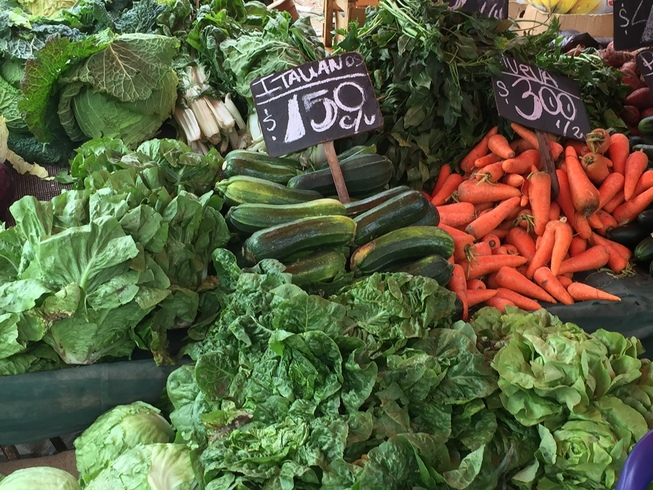precio: (245, 51, 400, 164), (477, 49, 596, 148)
